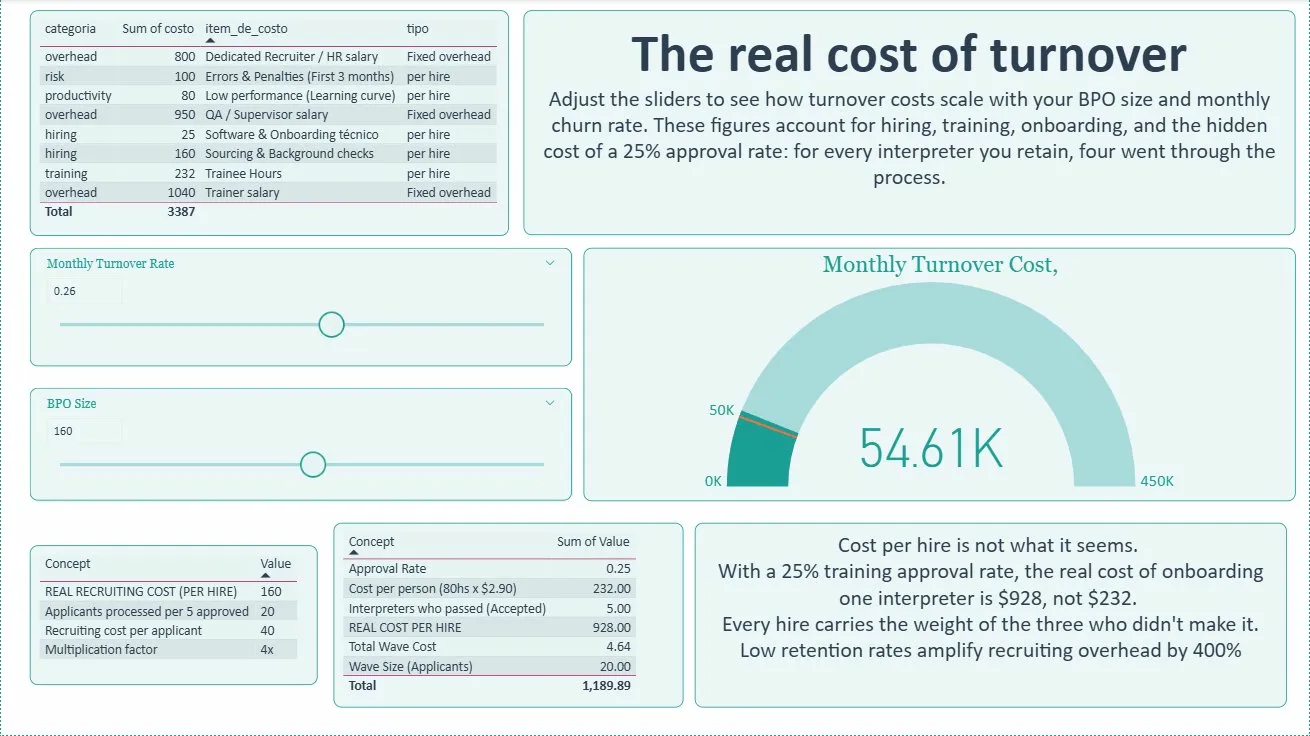

This screenshot's page, from the dashboard's own definition file:
{"tool":"powerbi","page":{"name":"Page 2","canvas":[1280,720],"ordinal":1},"visuals":[{"type":"tableEx","fields":{"Values":["Tabla_1.categoria","Sum(Tabla_1.costo)","Tabla_1.item_de_costo","Tabla_1.tipo"]},"box":[28,11.2,468.7,221.1],"z":0},{"type":"slicer","fields":{"Values":["BPO Size.BPO Size"]},"box":[28,380.6,530.3,110.5],"z":1000},{"type":"slicer","fields":{"Values":["Monthly Turnover Rate.Monthly Turnover Rate"]},"box":[28,243.5,530.3,116.1],"z":2000},{"type":"tableEx","fields":{"Values":["justificacion_costo_training.Concepto","Sum(justificacion_costo_training.Valor)"]},"box":[325.3,512.4,342.4,181],"z":4000},{"type":"tableEx","fields":{"Values":["justificacion_costo_recruiting.Concepto","justificacion_costo_recruiting.Valor"]},"box":[28.1,534.4,281.3,137],"z":5000},{"type":"textbox","box":[510.7,11.2,755.6,219.7],"z":6000},{"type":"textbox","box":[678.6,512.1,579.3,180.5],"z":7000},{"type":"gauge","title":"Monthly Turnover Cost,","fields":{"Y":["Tabla_1.Monthly Turnover Cost"],"MinValue":["Tabla_1.Gauge Min"],"MaxValue":["Tabla_1.Gauge Max"],"TargetValue":["Tabla_1.Gauge Target"]},"box":[569.5,243.5,696.8,247.7],"z":8000}]}

Visuals, with their boxes in screenshot pixels (x1, y1, x2, y2), scaled from the page's 1280x720 canvas onto the 1310x736 screenshot:
tableEx - Tabla_1.categoria x Sum(Tabla_1.costo): {"left": 29, "top": 11, "right": 508, "bottom": 237}
slicer - BPO Size.BPO Size: {"left": 29, "top": 389, "right": 571, "bottom": 502}
slicer - Monthly Turnover Rate.Monthly Turnover Rate: {"left": 29, "top": 249, "right": 571, "bottom": 368}
tableEx - justificacion_costo_training.Concepto x Sum(justificacion_costo_training.Valor): {"left": 333, "top": 524, "right": 683, "bottom": 709}
tableEx - justificacion_costo_recruiting.Concepto x justificacion_costo_recruiting.Valor: {"left": 29, "top": 546, "right": 317, "bottom": 686}
textbox: {"left": 523, "top": 11, "right": 1296, "bottom": 236}
textbox: {"left": 695, "top": 523, "right": 1287, "bottom": 708}
"Monthly Turnover Cost," gauge: {"left": 583, "top": 249, "right": 1296, "bottom": 502}
